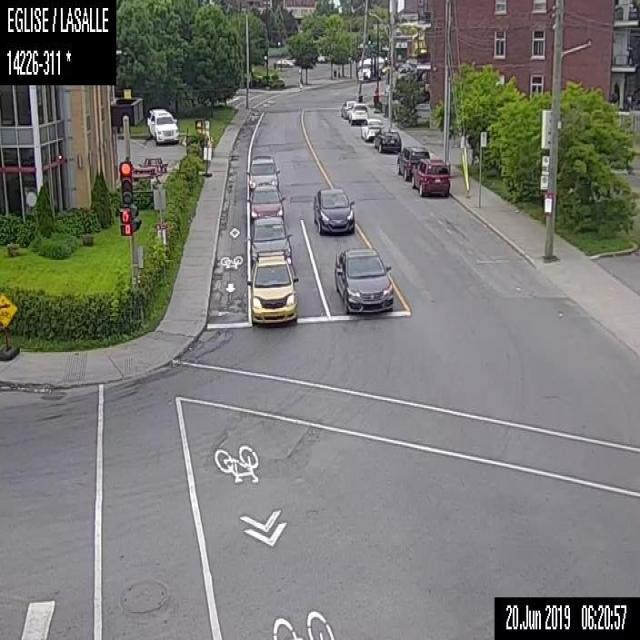vehicle: (332, 244, 393, 315), (245, 250, 298, 323), (311, 184, 355, 235), (248, 214, 292, 263), (411, 156, 450, 198), (246, 186, 285, 220), (396, 143, 428, 181), (246, 154, 279, 190), (146, 108, 178, 144), (372, 125, 402, 153), (359, 117, 381, 141), (346, 102, 368, 123), (339, 99, 356, 119), (275, 57, 293, 68)
